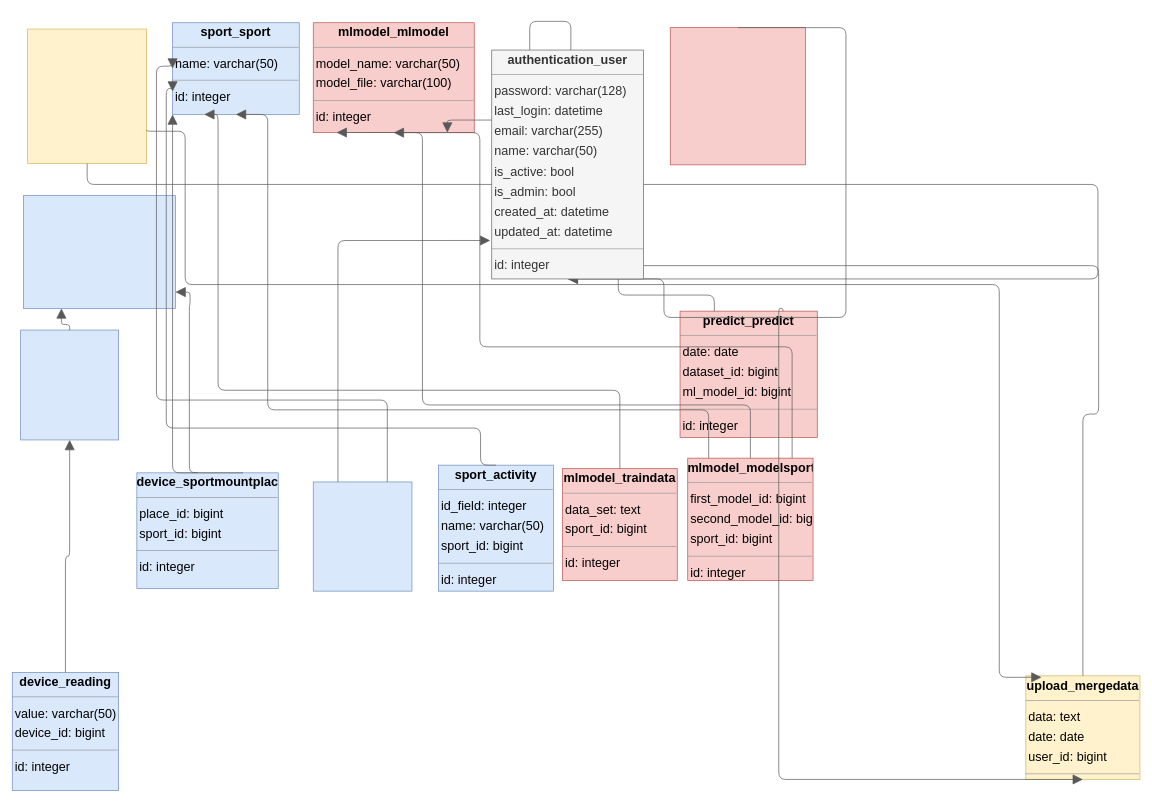
This 1152x803 diagram has some shape labels left out. The box of each missing label's shape, as (x1, y1, x2, y2) in pixels:
device_device device_id: varchar(5) mount_id: bigint id: integer: (20, 329, 119, 440)
device_mountplace place: varchar(50) mounting_order: integer id: integer: (23, 195, 175, 308)
predict_workload workload_data: text date: date user_id: bigint id: integer: (670, 27, 805, 165)
sport_sportuser sport_id: bigint user_id: bigint id: integer: (313, 481, 412, 591)
upload_upload date: date data: text user_id: bigint id: integer: (27, 28, 147, 163)
